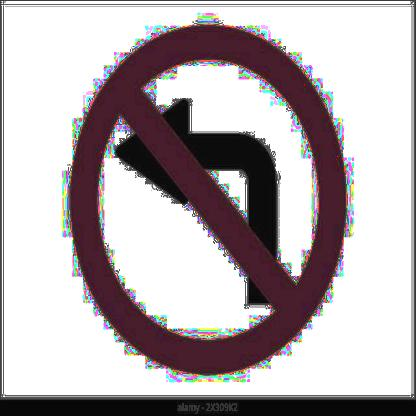No left turn: (71, 19, 345, 372)
